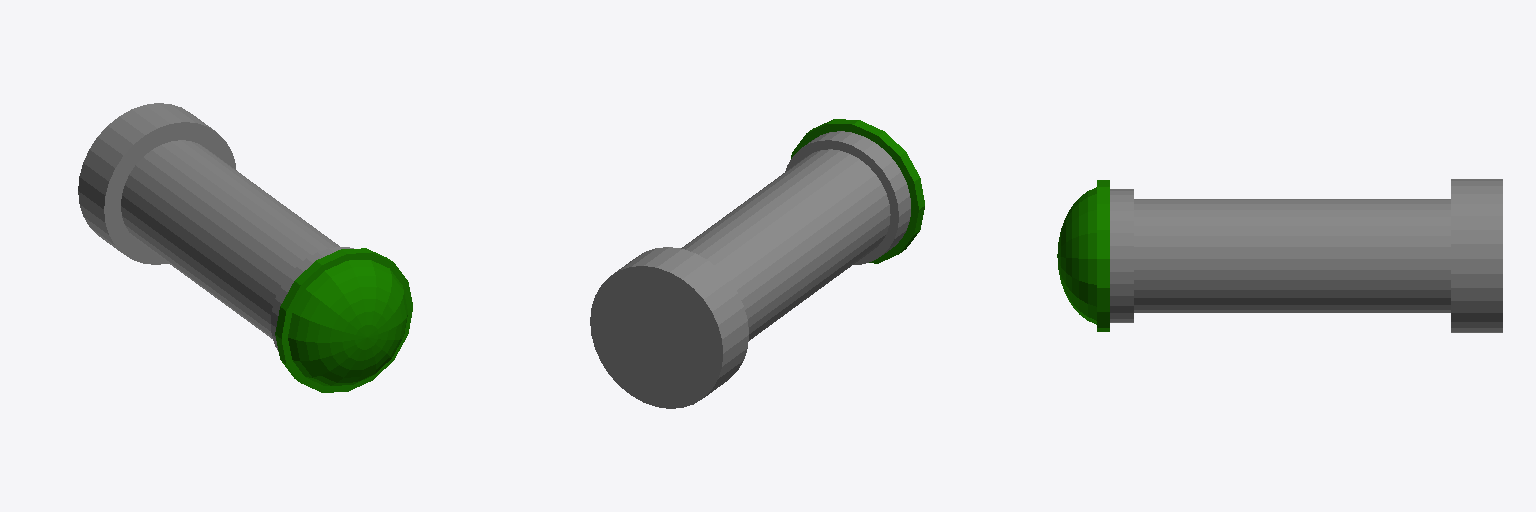
Rendered from bombeo.obj.
3 views of the same model, side by side, from view 1: azimuth 30°, elevation 25°; view 2: azimuth 150°, elevation 25°; view 3: azimuth 270°, elevation 25° (orthographic).
Parts seen in each view (by area): view 1: Cylinder.001, Sphere_Sphere.001; view 2: Cylinder.001, Sphere_Sphere.001; view 3: Cylinder.001, Sphere_Sphere.001.
Part boxes in pixels (x1,y1,x2,y2): Cylinder.001: (78, 103, 353, 351); Sphere_Sphere.001: (275, 248, 412, 392); Cylinder.001: (590, 131, 910, 408); Sphere_Sphere.001: (791, 119, 924, 263); Cylinder.001: (1110, 179, 1502, 332); Sphere_Sphere.001: (1057, 180, 1109, 331).
Bounding box in the file's own units: 2.92 × 2.92 × 8.46.